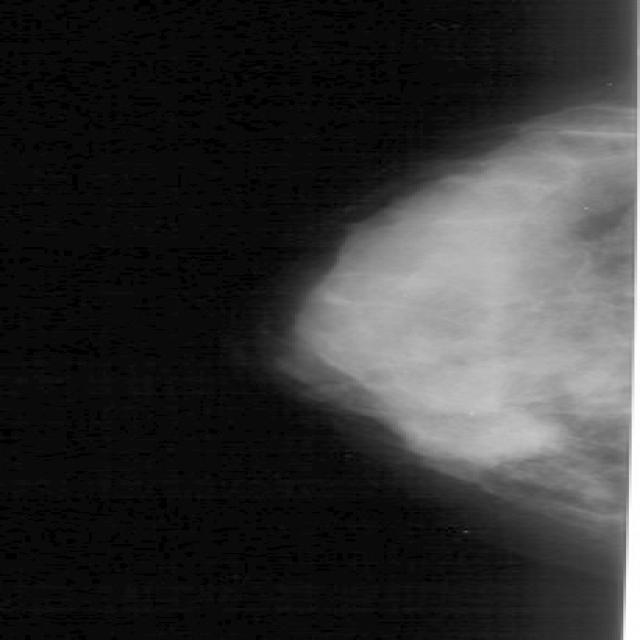tumour: (387, 391, 562, 458)
